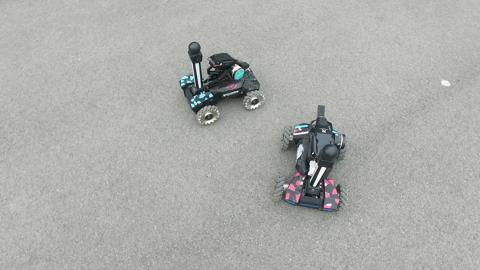chariot: (172, 36, 276, 135), (267, 102, 358, 213)
